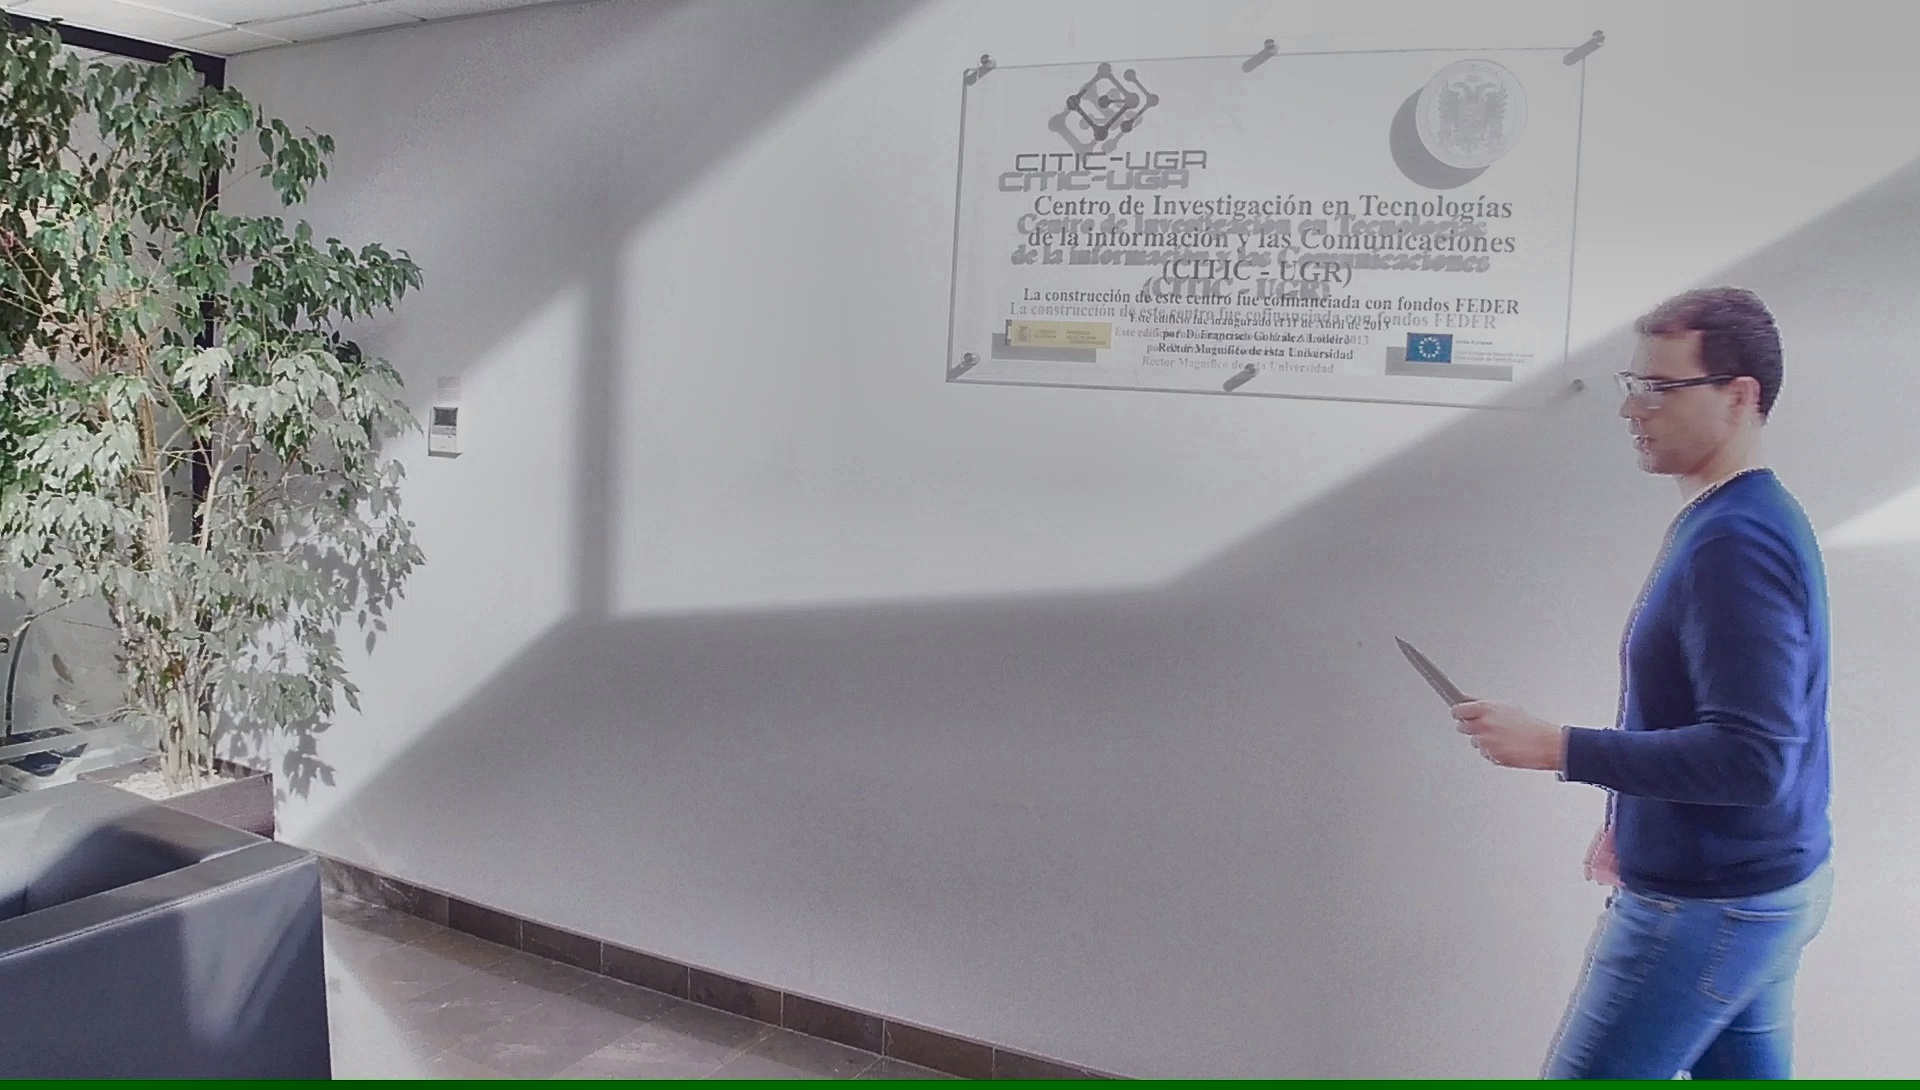knife: (1391, 627, 1516, 772)
